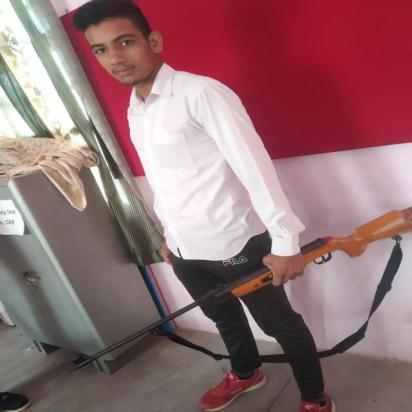Gun: (66, 204, 412, 374)
